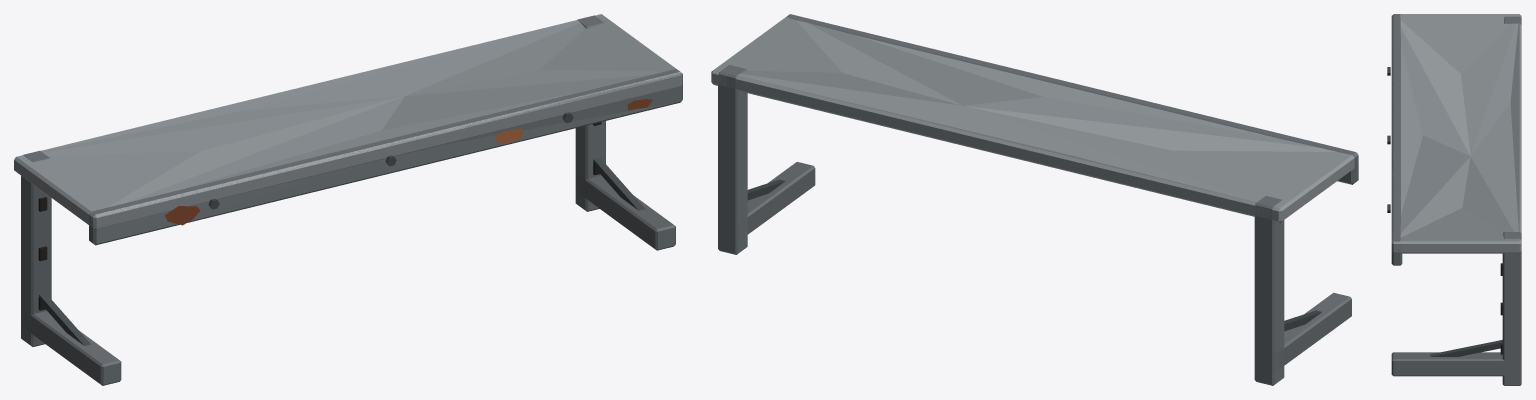
Rendered from shelf_wood_metallicheskaya_ugolkovaya_idle.glb.
3 renders of one model, left to right at view 1: azimuth 30°, elevation 25°; view 2: azimuth 150°, elevation 25°; view 3: azimuth 270°, elevation 25°, orthographic. The views are drawn at different scales.
Parts seen in each view (by area): view 1: shelf_wood_metallicheskaya_ugolkovaya_idle; view 2: shelf_wood_metallicheskaya_ugolkovaya_idle; view 3: shelf_wood_metallicheskaya_ugolkovaya_idle.
Boxes of the visible parts, x1,y1,x2,y2 form: shelf_wood_metallicheskaya_ugolkovaya_idle: [14, 14, 682, 385]; shelf_wood_metallicheskaya_ugolkovaya_idle: [711, 14, 1358, 385]; shelf_wood_metallicheskaya_ugolkovaya_idle: [1387, 14, 1521, 385].
Size of the model in its own units: 1 by 0.3 by 0.248.
Materials: 1 (1 with a texture image).
